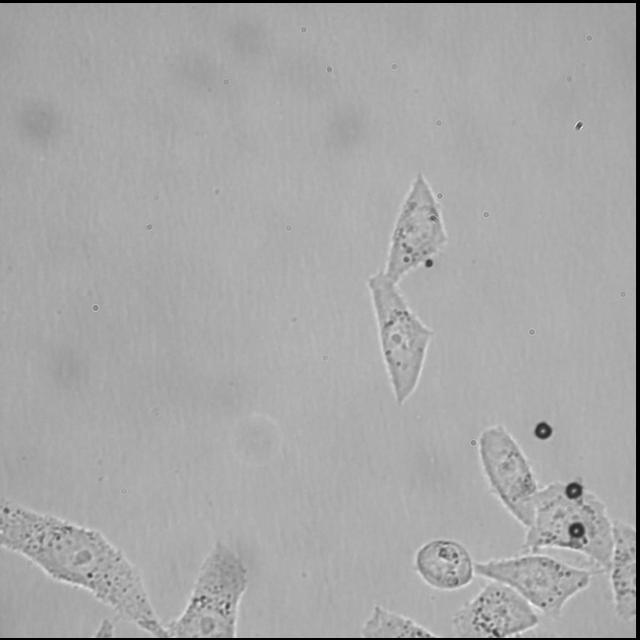microbeads: (560, 476, 584, 500), (532, 418, 554, 442), (566, 520, 588, 542)
